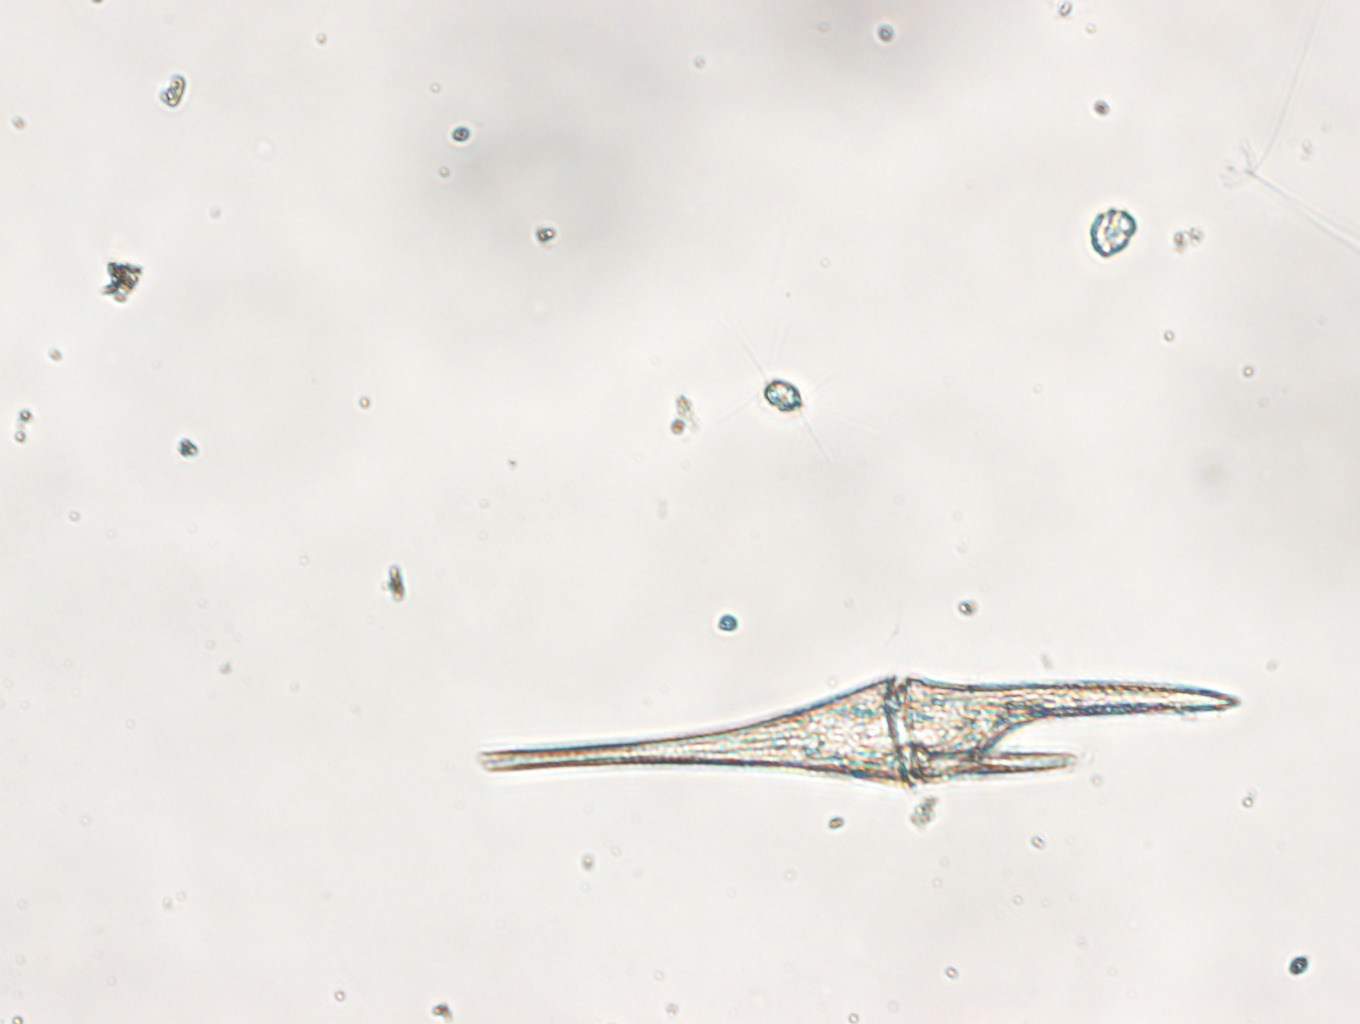ceratium furca: (479, 672, 1240, 790)
